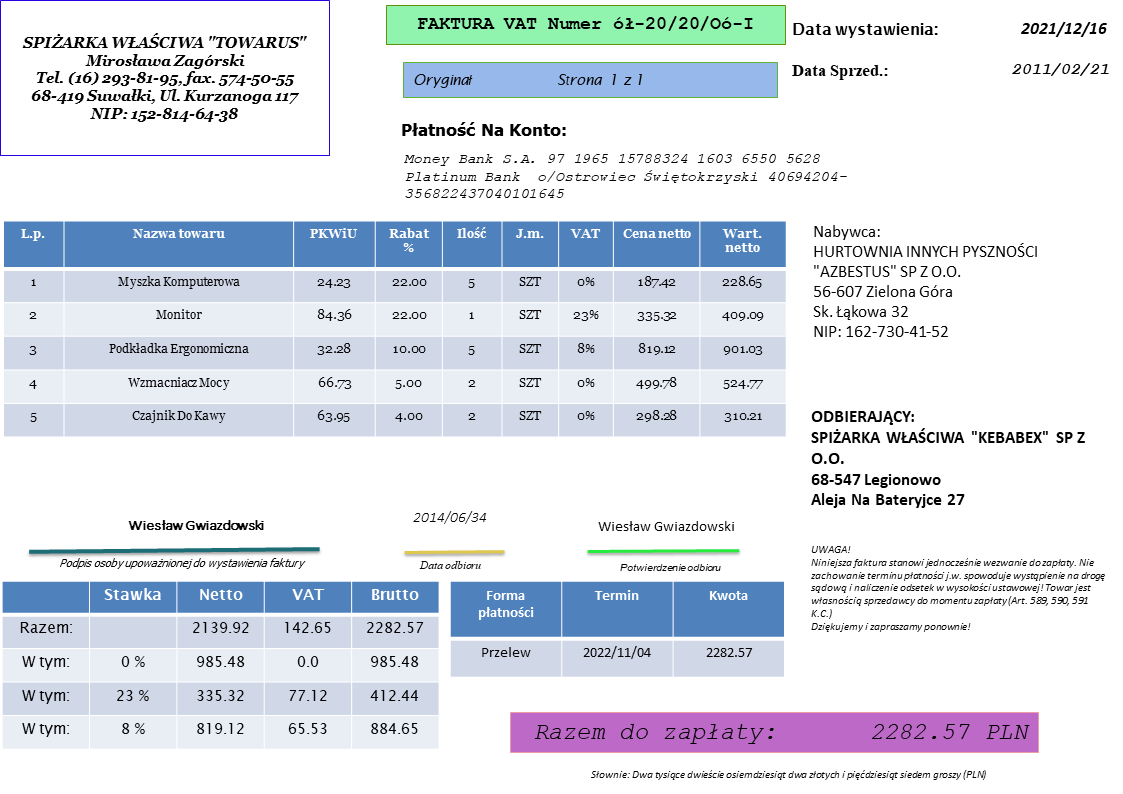Table: (1, 220, 787, 438), (1, 579, 440, 752), (448, 579, 784, 679)
TextBox: (808, 406, 1090, 512), (810, 220, 1043, 342), (808, 541, 1107, 634), (21, 32, 310, 124), (401, 151, 847, 200), (532, 720, 1029, 747), (414, 14, 756, 33), (586, 767, 988, 782), (410, 69, 645, 91), (56, 555, 308, 571), (398, 119, 569, 142), (790, 19, 939, 40), (595, 518, 737, 535), (125, 517, 267, 533), (790, 61, 890, 82), (1017, 20, 1111, 38), (1010, 61, 1111, 77), (617, 560, 722, 574), (410, 508, 488, 526), (417, 557, 483, 573)
